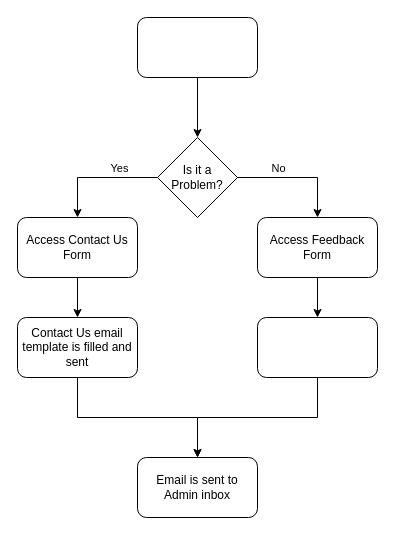
The diagram is 395 pixels wide and 535 high, and some of its shapes have lost their labels. The centre of each missing label's shape, as x and y in pixels:
"Feedback email template is filled and sent" goes at point (317, 347).
"User wants to communicate with the admins" goes at point (197, 47).
